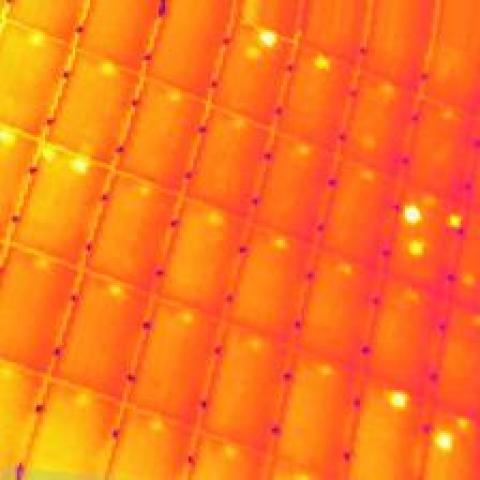fault: (382, 384, 414, 414), (428, 424, 456, 454), (172, 304, 200, 328), (216, 437, 244, 461), (94, 56, 122, 79), (28, 251, 56, 274), (311, 358, 336, 381), (257, 26, 281, 49), (399, 201, 422, 225), (268, 231, 291, 255), (311, 49, 332, 75), (69, 152, 90, 178), (103, 279, 126, 302), (334, 257, 356, 281), (204, 205, 226, 228), (356, 165, 377, 189), (377, 79, 399, 101), (242, 332, 264, 354), (399, 285, 422, 306), (446, 210, 465, 234), (405, 236, 426, 257), (452, 411, 472, 433), (26, 25, 45, 48), (133, 180, 156, 199), (244, 43, 264, 64), (2, 126, 19, 150), (293, 137, 313, 157), (165, 84, 184, 105), (40, 141, 56, 163)
